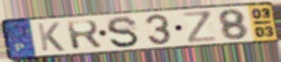3: (144, 13, 173, 46)
8: (218, 8, 252, 41)
K: (35, 21, 67, 52)
R: (64, 19, 104, 51)
S: (105, 15, 142, 49)
Z: (181, 9, 220, 44)
